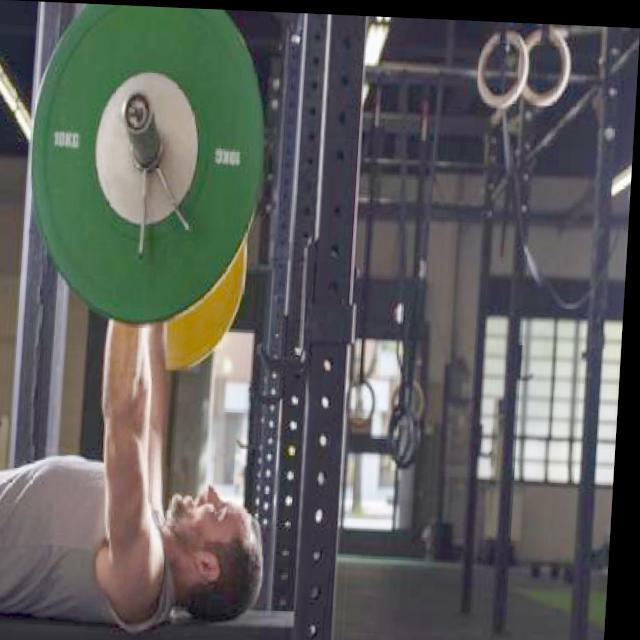barbell: (21, 2, 280, 334)
